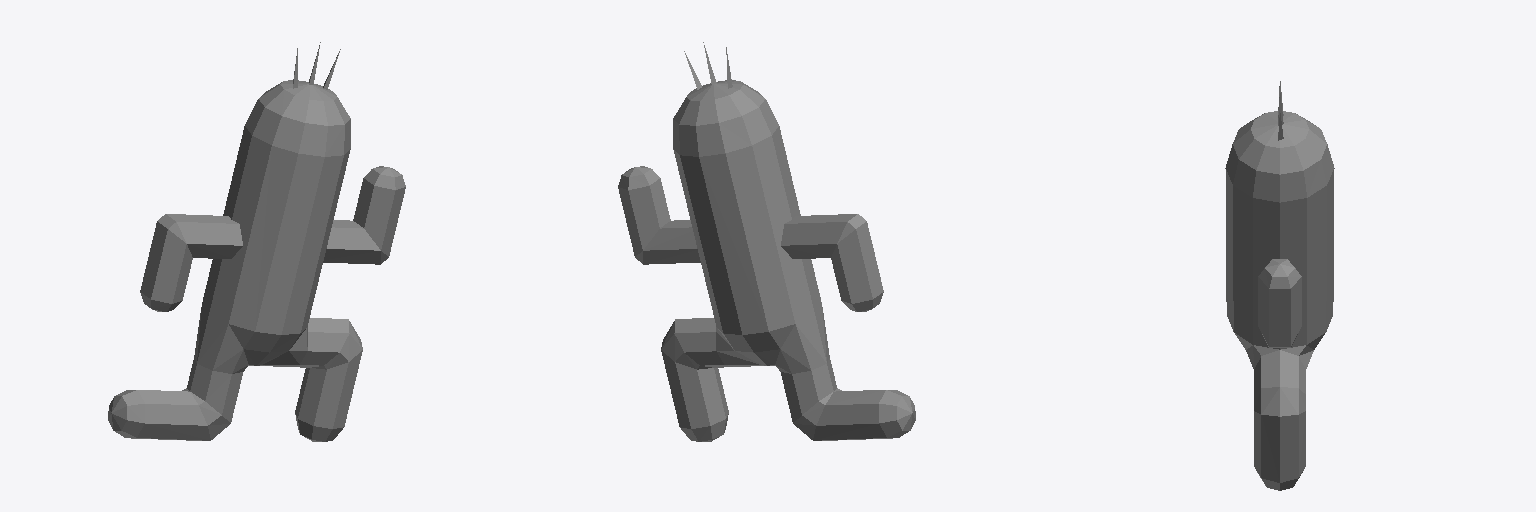
The model's file is Cactuar.obj.
The picture shows the model from 3 angles: view 1: azimuth 30°, elevation 25°; view 2: azimuth 150°, elevation 25°; view 3: azimuth 270°, elevation 25°; orthographic projection.
Parts seen in each view (by area): view 1: cactuar; view 2: cactuar; view 3: cactuar.
Part boxes in pixels (left/top/right/bottom): cactuar: left=108, top=42, right=405, bottom=441; cactuar: left=618, top=42, right=915, bottom=441; cactuar: left=1225, top=81, right=1334, bottom=490.
Bounding box in the file's own units: 3015 × 3997 × 984.